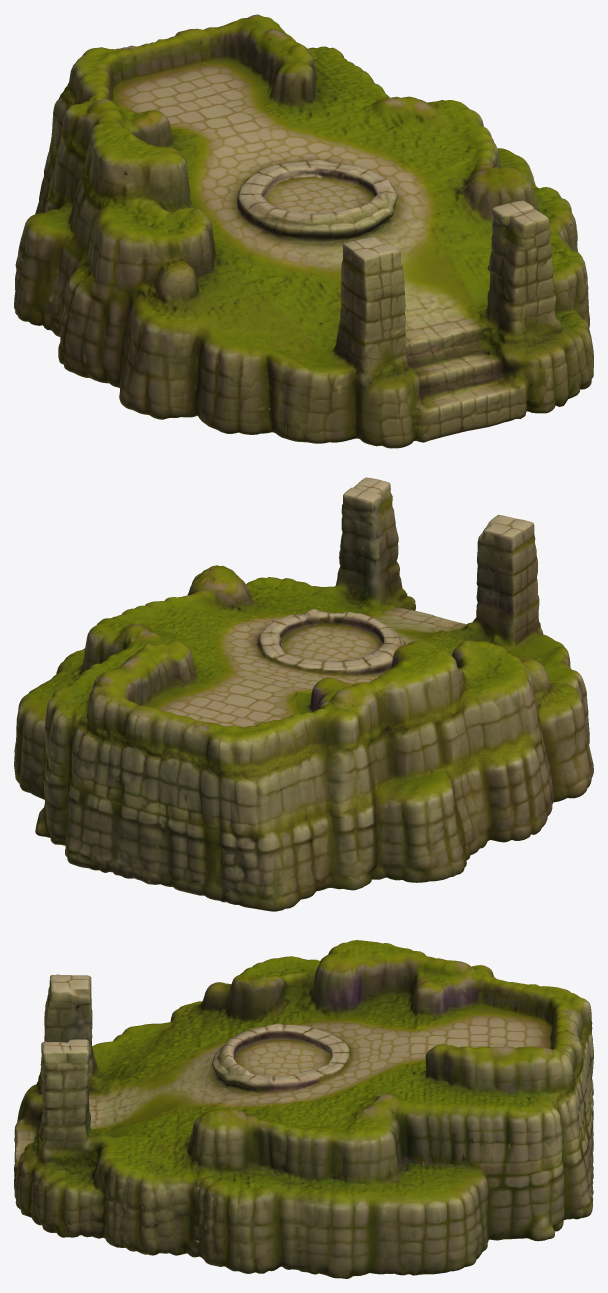
File: landmark_island.glb
The picture shows the model from 3 angles, top to bottom: view 1: azimuth 30°, elevation 25°; view 2: azimuth 150°, elevation 25°; view 3: azimuth 270°, elevation 25°; orthographic projection. The views are drawn at different scales.
Visible parts, largest first — view 1: Mesh_0; view 2: Mesh_0; view 3: Mesh_0.
Part boxes in pixels (x1,y1,x2,y2): Mesh_0: [14, 14, 593, 448]; Mesh_0: [14, 477, 593, 911]; Mesh_0: [14, 940, 593, 1278].
Size of the model in its own units: 27.42 by 10 by 31.87.
1 material, 1 textured.
